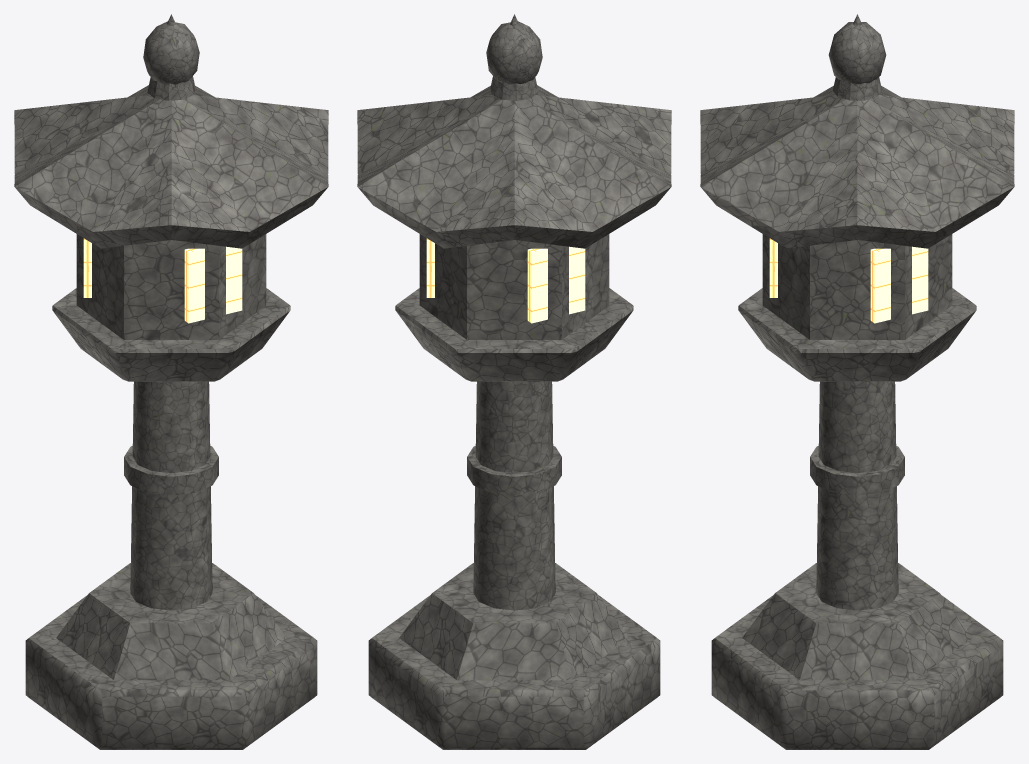
The model's file is lantern.gltf.
3 views of the same model, side by side, from view 1: azimuth 30°, elevation 25°; view 2: azimuth 150°, elevation 25°; view 3: azimuth 270°, elevation 25° (orthographic).
Parts seen in each view (by area): view 1: LanternMesh; view 2: LanternMesh; view 3: LanternMesh.
Boxes of the visible parts, x1,y1,x2,y2 form: LanternMesh: [14, 14, 328, 749]; LanternMesh: [357, 14, 671, 749]; LanternMesh: [700, 14, 1014, 749].
Size of the model in its own units: 0.88 by 1.83 by 0.7621.
Materials: 2 (2 with a texture image).
